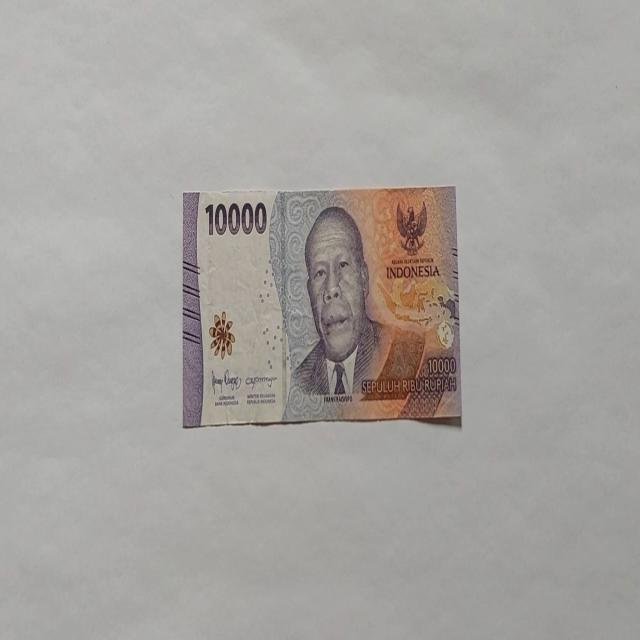sepuluh ribu rupiah: (181, 184, 461, 428), (279, 204, 427, 420)
